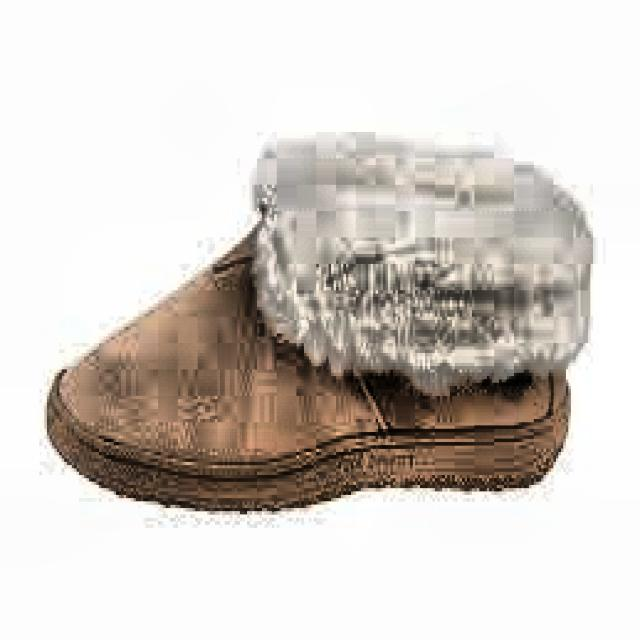shoes: (45, 126, 590, 517)
